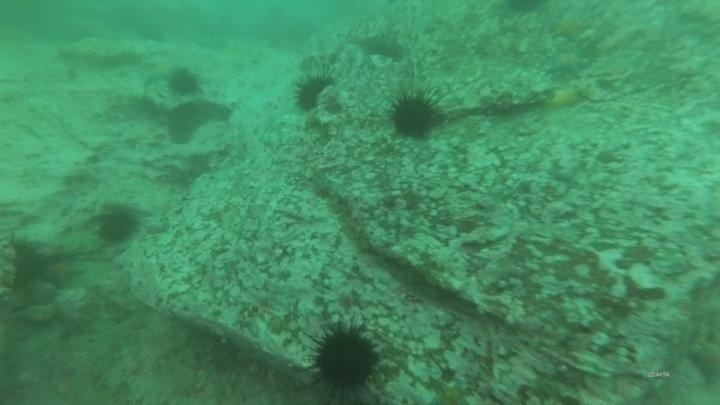echinus: (306, 321, 384, 401), (387, 89, 444, 141), (7, 238, 47, 288), (291, 71, 337, 114), (95, 205, 140, 246), (165, 66, 203, 98), (502, 1, 545, 18)
starfish: (686, 338, 720, 388), (39, 256, 85, 290), (546, 48, 590, 78), (138, 57, 178, 88), (548, 15, 591, 42), (545, 84, 586, 111)
